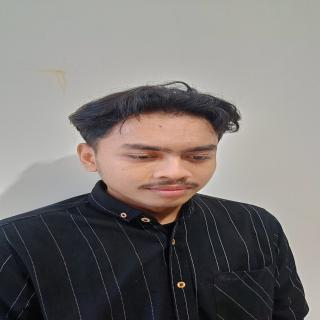Sedih: (98, 106, 226, 209)
